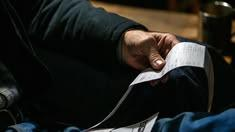receipt-in-hand: (87, 42, 213, 130)
